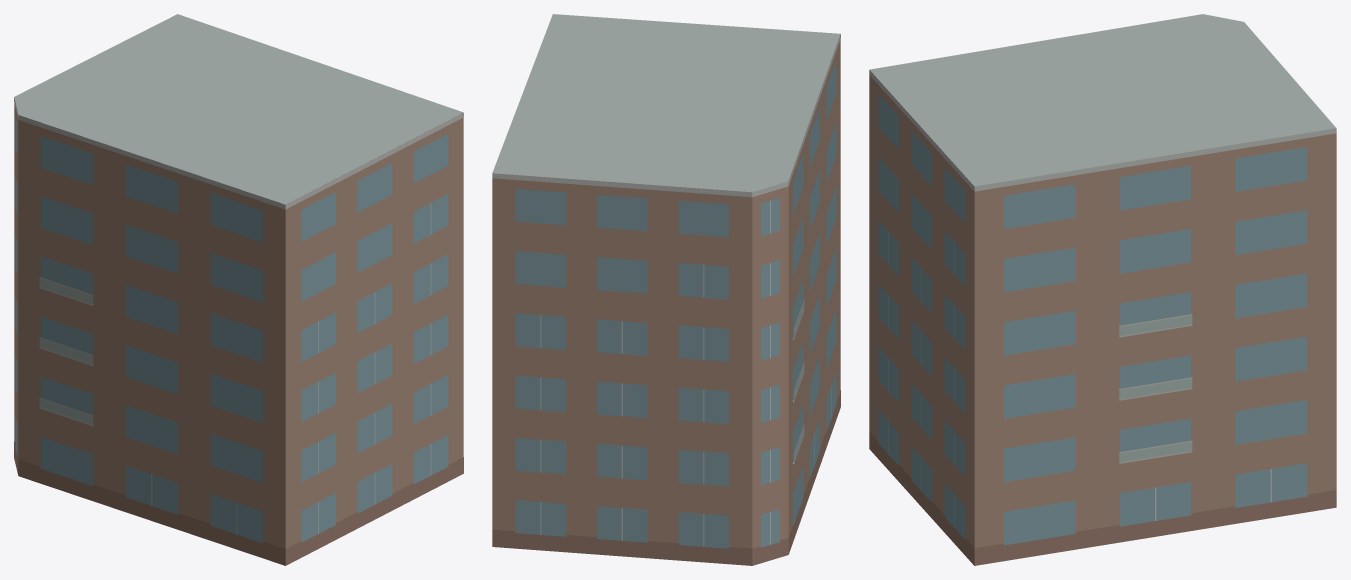
Rendered from survey-upis-32523431.glb.
The picture shows the model from 3 angles, left to right: view 1: azimuth 30°, elevation 25°; view 2: azimuth 150°, elevation 25°; view 3: azimuth 270°, elevation 25°; orthographic projection. The views are drawn at different scales.
Visible parts, largest first — view 1: survey-upis-32523431.tmp; view 2: survey-upis-32523431.tmp; view 3: survey-upis-32523431.tmp.
Boxes of the visible parts, x1,y1,x2,y2 form: survey-upis-32523431.tmp: (14,14,463,565); survey-upis-32523431.tmp: (492,14,840,565); survey-upis-32523431.tmp: (869,14,1336,565).
Size of the model in its own units: 17.76 by 18.2 by 20.33.
